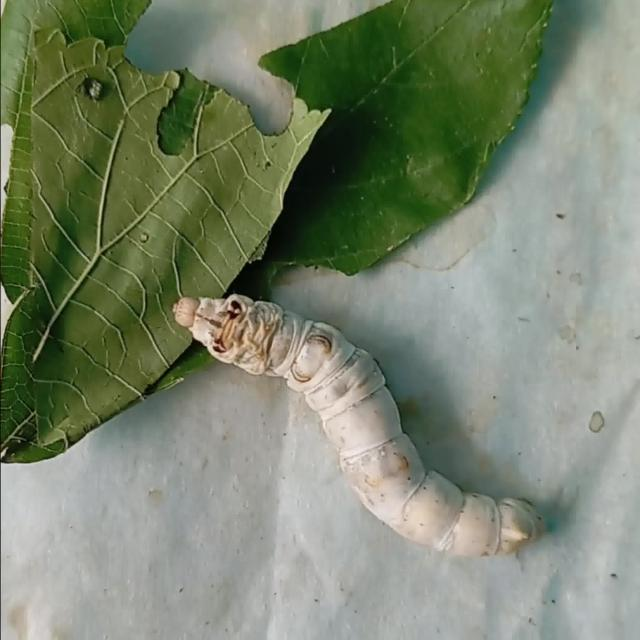Grasserie: (166, 268, 548, 572)
